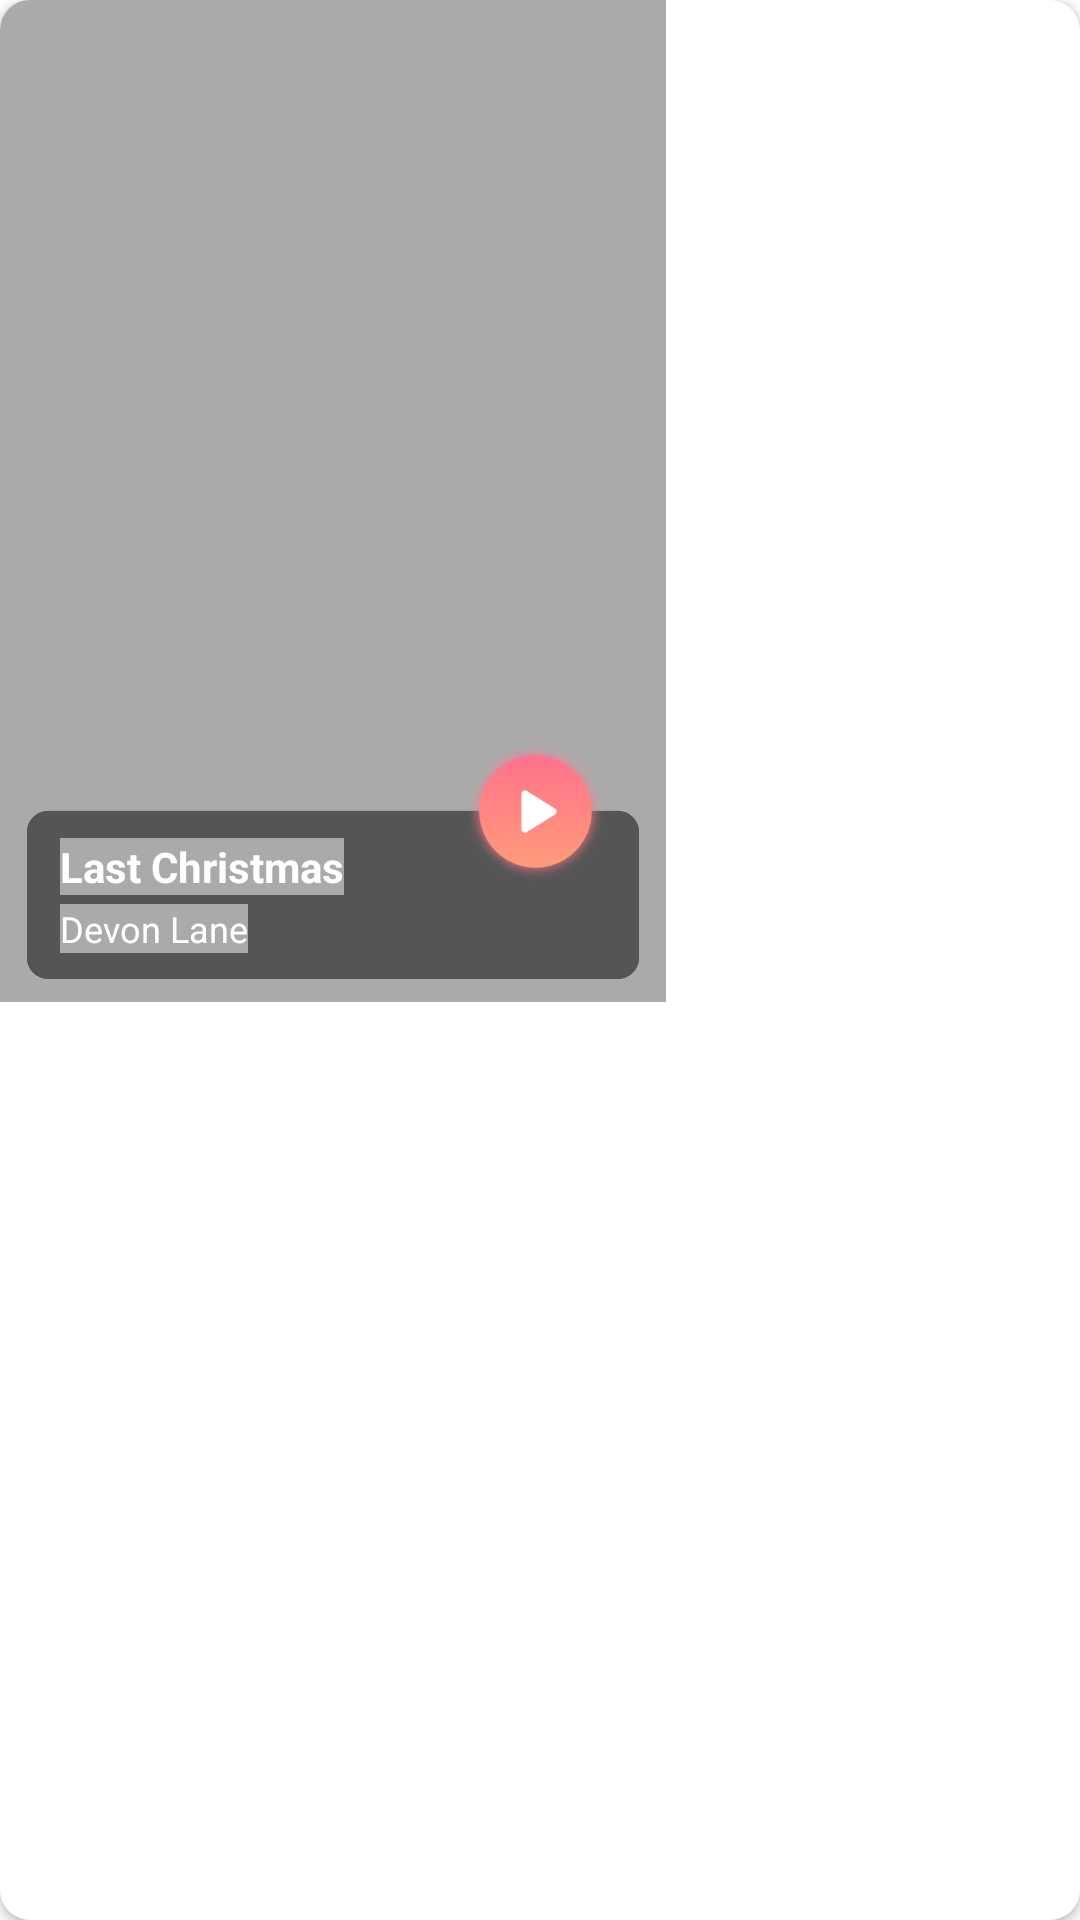

Icons on this 1080px x 1920px Android screen, each with the point to tap as point (x, y):
play: point (535, 811)
